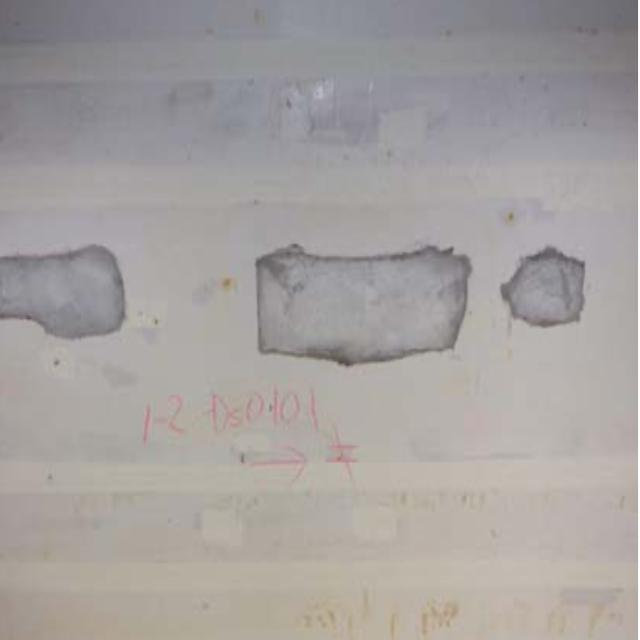spalling: (241, 234, 600, 383), (6, 240, 147, 349)
